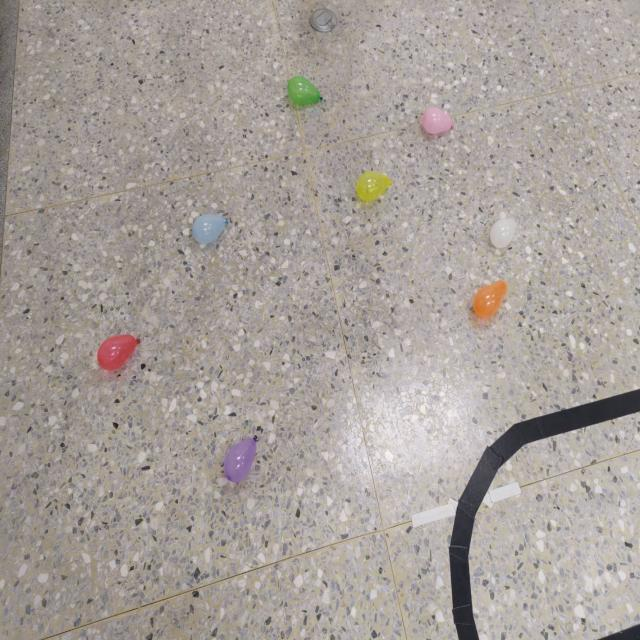other: (224, 434, 258, 484), (472, 278, 507, 318), (190, 212, 229, 245), (287, 74, 324, 108), (354, 170, 394, 201), (421, 106, 454, 134), (490, 218, 517, 247)
red: (95, 332, 140, 371)
